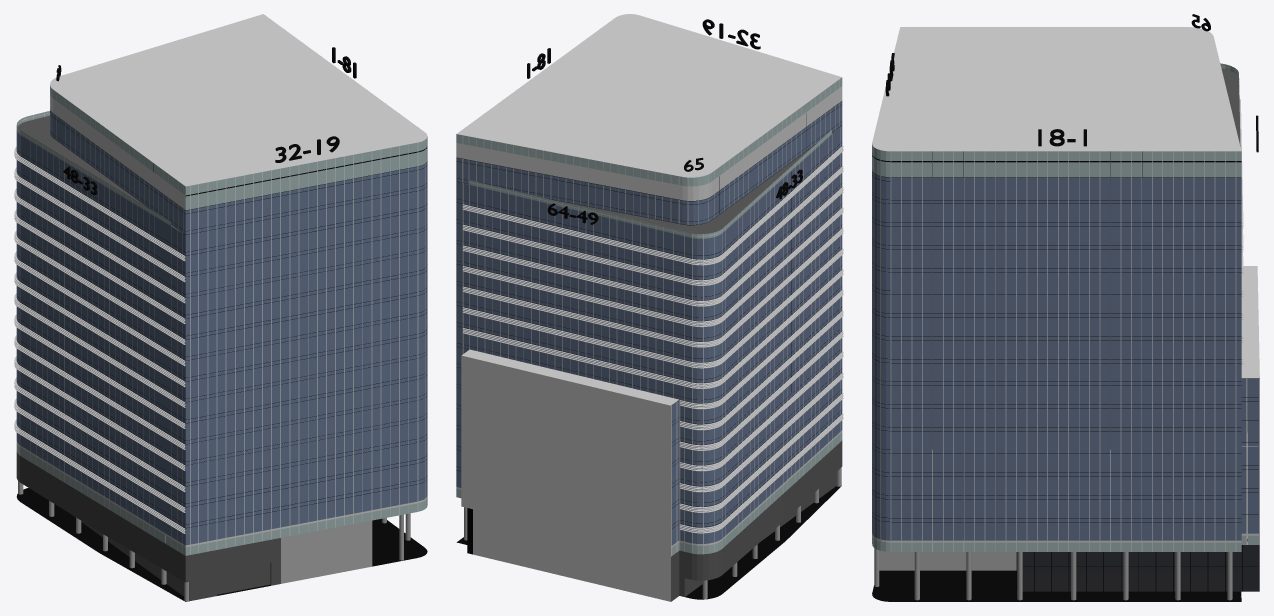
Rendered from AldgateTower.glb.
3 views of the same model, side by side, from view 1: azimuth 30°, elevation 25°; view 2: azimuth 150°, elevation 25°; view 3: azimuth 270°, elevation 25° (orthographic). The views are drawn at different scales.
Visible parts, largest first — view 1: Cube, borders, Drop20, Drop28, Drop23, Drop25, Drop22, Drop21, Drop26, Drop29, Drop31, Drop24 (+22 smaller); view 2: Cube, borders, Drop65, Drop49, Drop48, Drop50, Drop64, Drop51, Drop62, Drop54, Drop60, Drop52 (+23 smaller); view 3: Cube, Drop3, Drop6, Drop7, Drop8, Drop11, Drop12, Drop13, Drop14, Drop17, Drop4, Drop5 (+10 smaller).
Boxes of the visible parts, x1,y1,x2,y2 form: Cube: (16, 14, 427, 601); borders: (14, 147, 185, 533); Drop20: (390, 144, 408, 516); Drop28: (244, 172, 262, 544); Drop23: (335, 155, 353, 527); Drop25: (299, 161, 316, 534); Drop22: (354, 151, 371, 523); Drop21: (372, 148, 389, 520); Drop26: (281, 165, 298, 537); Drop29: (226, 175, 243, 547); Drop31: (190, 182, 207, 554); Drop24: (317, 158, 334, 530); Cube: (456, 14, 842, 601); borders: (462, 146, 843, 533); Drop65: (456, 77, 842, 224); Drop49: (684, 236, 702, 554); Drop48: (703, 234, 721, 554); Drop50: (671, 234, 683, 555); Drop64: (456, 181, 468, 498); Drop51: (656, 229, 673, 397); Drop62: (485, 188, 500, 356); Drop54: (609, 218, 624, 386); Drop60: (516, 196, 531, 363); Drop52: (640, 226, 655, 393); Cube: (872, 27, 1259, 601); Drop3: (1184, 151, 1204, 551); Drop6: (1121, 151, 1141, 551); Drop7: (1100, 151, 1120, 551); Drop8: (1079, 151, 1099, 551); Drop11: (1016, 151, 1036, 551); Drop12: (995, 151, 1015, 551); Drop13: (975, 151, 995, 551); Drop14: (954, 151, 974, 551); Drop17: (891, 151, 911, 551); Drop4: (1163, 151, 1183, 551); Drop5: (1142, 151, 1162, 551).
Size of the model in its own units: 193 by 305 by 227.
